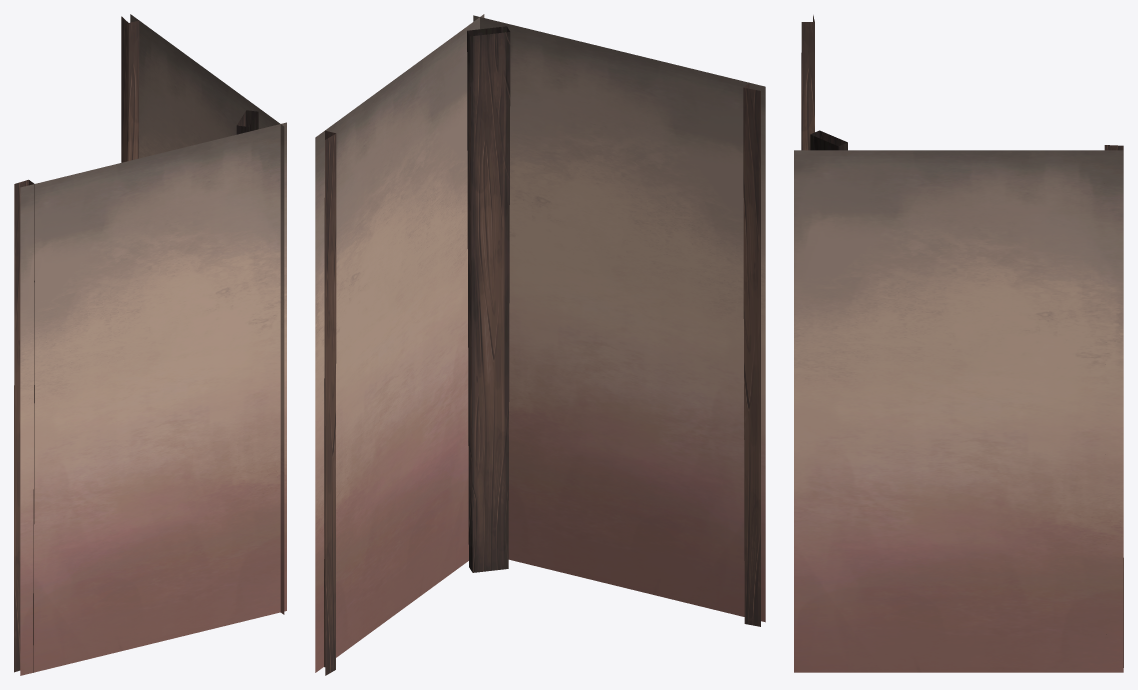
Rendered from Wall_Mid_Inner_Corner_LOD1.fbx.
3 views of the same model, side by side, from view 1: azimuth 30°, elevation 25°; view 2: azimuth 150°, elevation 25°; view 3: azimuth 270°, elevation 25° (orthographic). The views are drawn at different scales.
Parts seen in each view (by area): view 1: Inner_Corner_Wall_Mid_LOD1; view 2: Inner_Corner_Wall_Mid_LOD1; view 3: Inner_Corner_Wall_Mid_LOD1.
Boxes of the visible parts, x1,y1,x2,y2 form: Inner_Corner_Wall_Mid_LOD1: [14, 14, 286, 675]; Inner_Corner_Wall_Mid_LOD1: [315, 14, 765, 675]; Inner_Corner_Wall_Mid_LOD1: [794, 15, 1123, 672].
Bounding box in the file's own units: 0.0241 × 0.0421 × 0.024.
